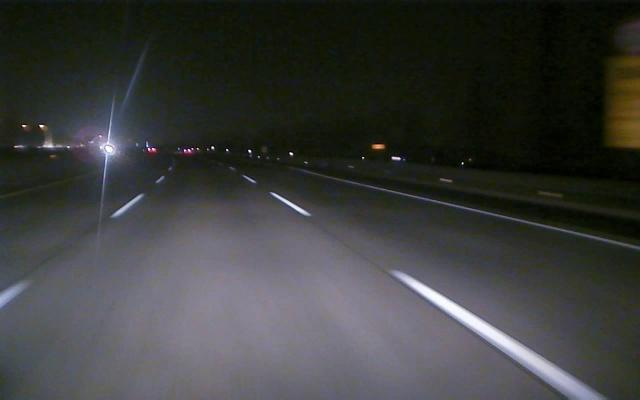lane: (252, 179, 607, 398), (353, 181, 638, 250), (1, 194, 143, 308)
